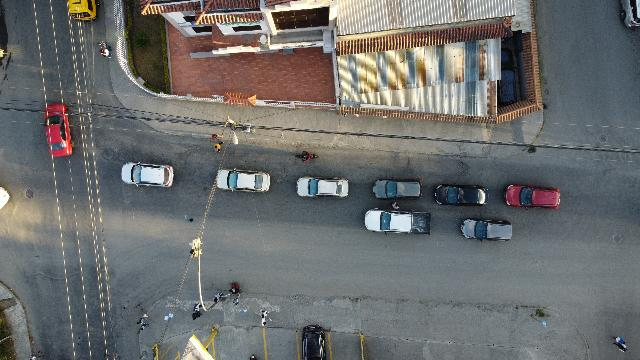Vehiculo: (364, 210, 432, 234), (44, 103, 72, 157), (504, 185, 560, 210), (122, 162, 174, 188), (216, 168, 270, 192), (460, 218, 512, 241), (434, 184, 488, 206), (296, 176, 348, 198), (372, 179, 422, 199), (302, 325, 326, 359), (66, 0, 100, 20), (620, 1, 640, 28)
